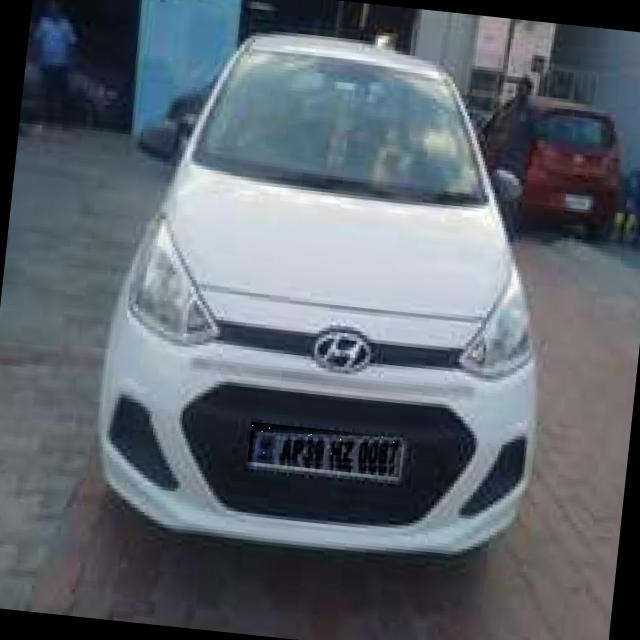Plate: (248, 422, 403, 478)
